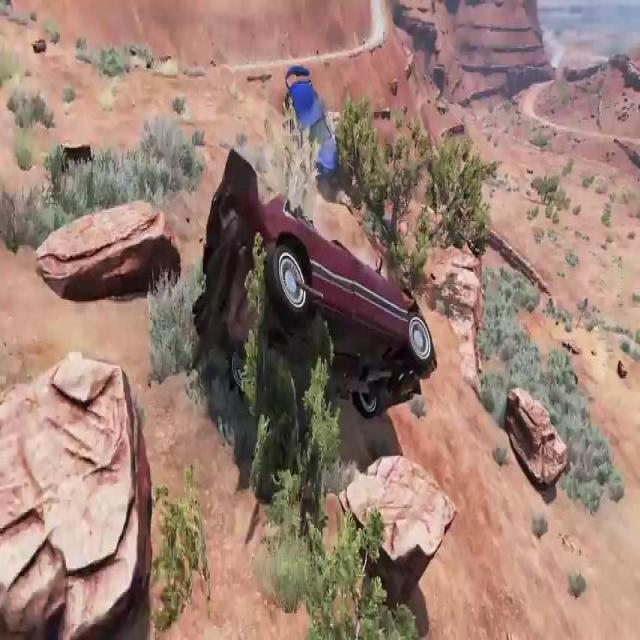severe: (189, 129, 436, 432), (279, 56, 339, 186)
